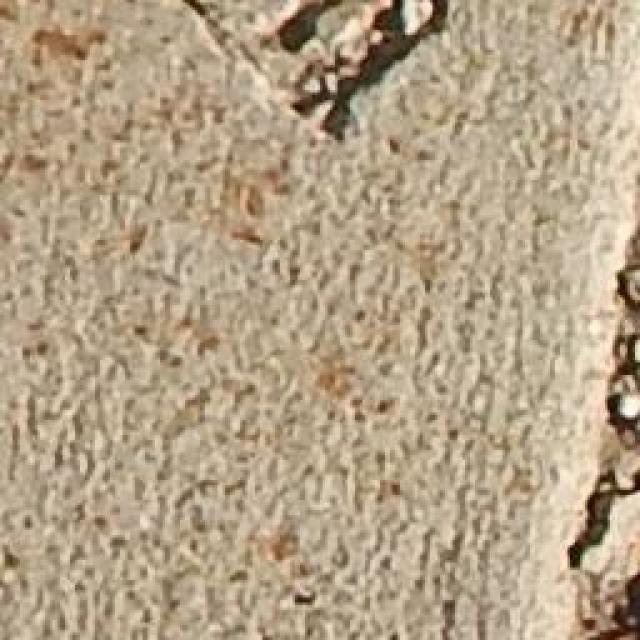concrete-crack: (173, 0, 462, 147), (561, 227, 640, 640)
